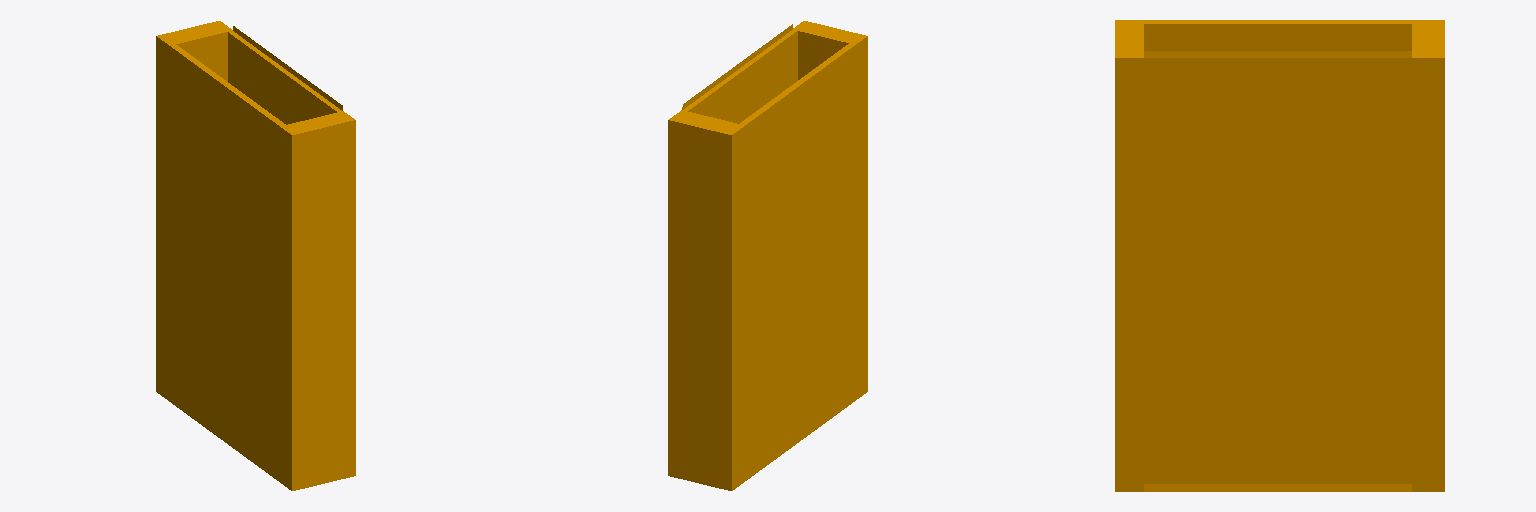
The robot description file, URDF, robot "cereal":
<?xml version="1.0"?>
<robot name="cereal">
    <link name="base_link">
        <inertial>
            <origin xyz="0 0 0" rpy="0 0 0"/>
            <mass value="0.03"/>
            <inertia ixx="0.000425"  ixy="0"  ixz="0" iyy="0.0005" iyz="0" izz="0.000125" />
        </inertial>

        <visual>
            <origin xyz="0 0 0" rpy="0 0 0" />
            <geometry>
                <mesh filename="cereal.dae" scale="0.07 0.1 0.1" />
            </geometry>
        </visual>

        <collision>
            <origin xyz="0 0 0" rpy="0 0 0"/>
            <geometry>
                <mesh filename="cereal.dae" scale="0.07 0.1 0.1" />
            </geometry>
        </collision>
    </link>
</robot>

--- Facts derived from the render (not from the file) ---
Views: 3 orthographic renders of the robot side by side, from view 1: azimuth 30°, elevation 25°; view 2: azimuth 150°, elevation 25°; view 3: azimuth 270°, elevation 25°.
Robot: cereal — 1 links, 0 joints (none); root link base_link; default pose: all joints at 0.
Visible links, largest first — view 1: base_link; view 2: base_link; view 3: base_link.
Boxes of the visible links, x1,y1,x2,y2 form: base_link: [156, 21, 355, 490]; base_link: [668, 21, 867, 490]; base_link: [1115, 20, 1444, 491].
Size in the robot's own frame: 0.0539 by 0.2 by 0.2936 metres.
Meshes: 1 distinct files referenced, 1 mesh visuals loaded (1 Collada DAE).